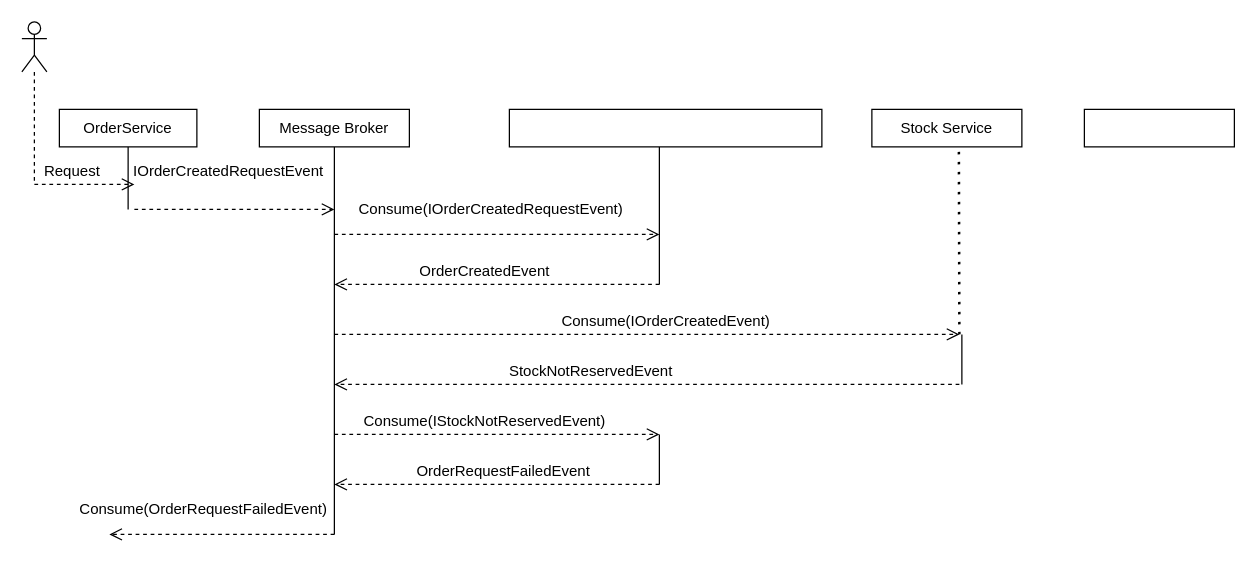
Some shapes in this 1256 by 569 pixel diagram are drawn without their labels. Each missing label, with the centre of its shape:
Payment Service: the point at 1158,127
State Machine: the point at 665,127
